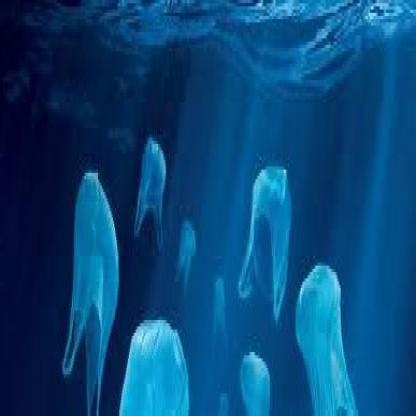pbag: (56, 153, 119, 416), (291, 256, 370, 416), (236, 147, 294, 326), (115, 304, 191, 416), (131, 125, 168, 253), (235, 339, 283, 416), (174, 204, 198, 298), (210, 275, 231, 349), (214, 377, 235, 416)
